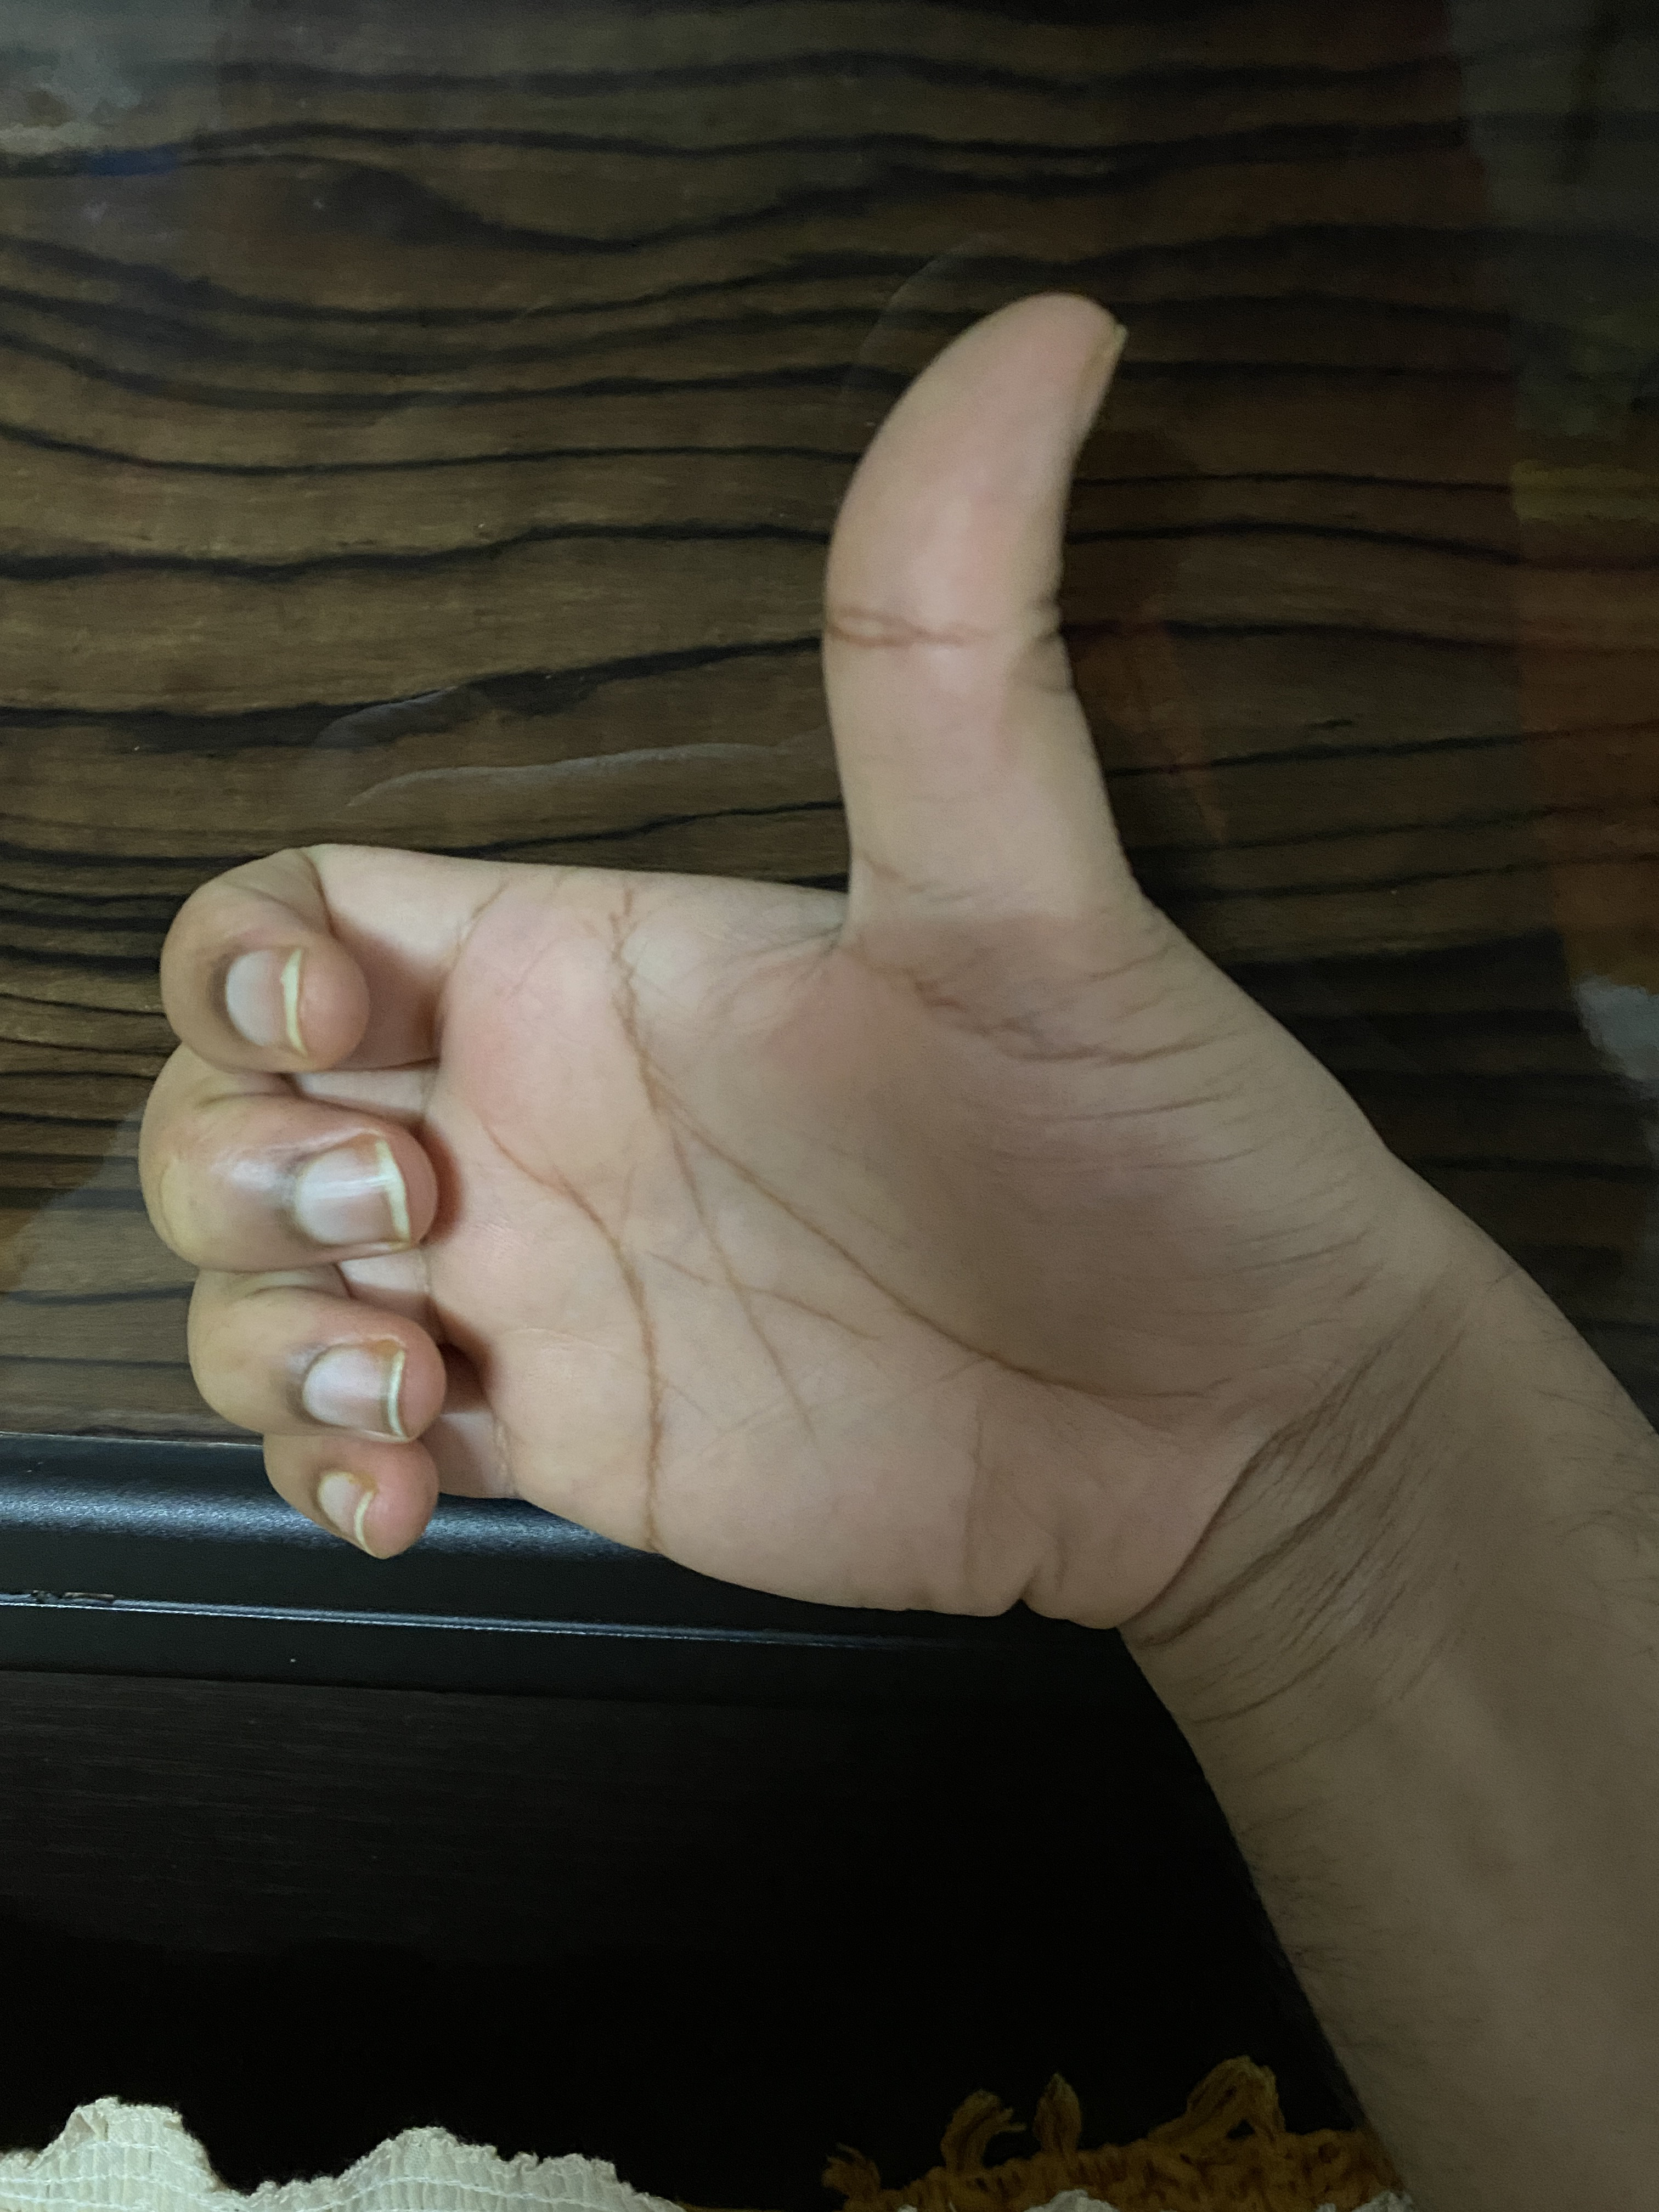up: (84, 258, 1593, 1789)
